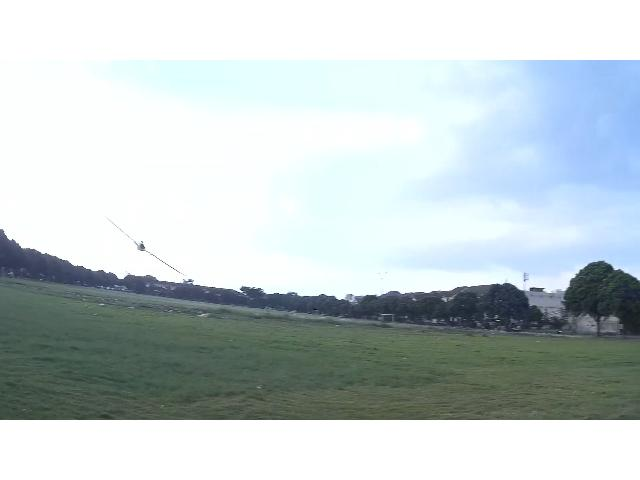Anti-Drone: (105, 215, 187, 275)
